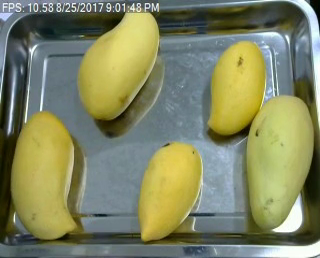Mango: (80, 1, 162, 124), (246, 89, 314, 231), (6, 111, 77, 241), (136, 142, 203, 241), (203, 40, 265, 136)
